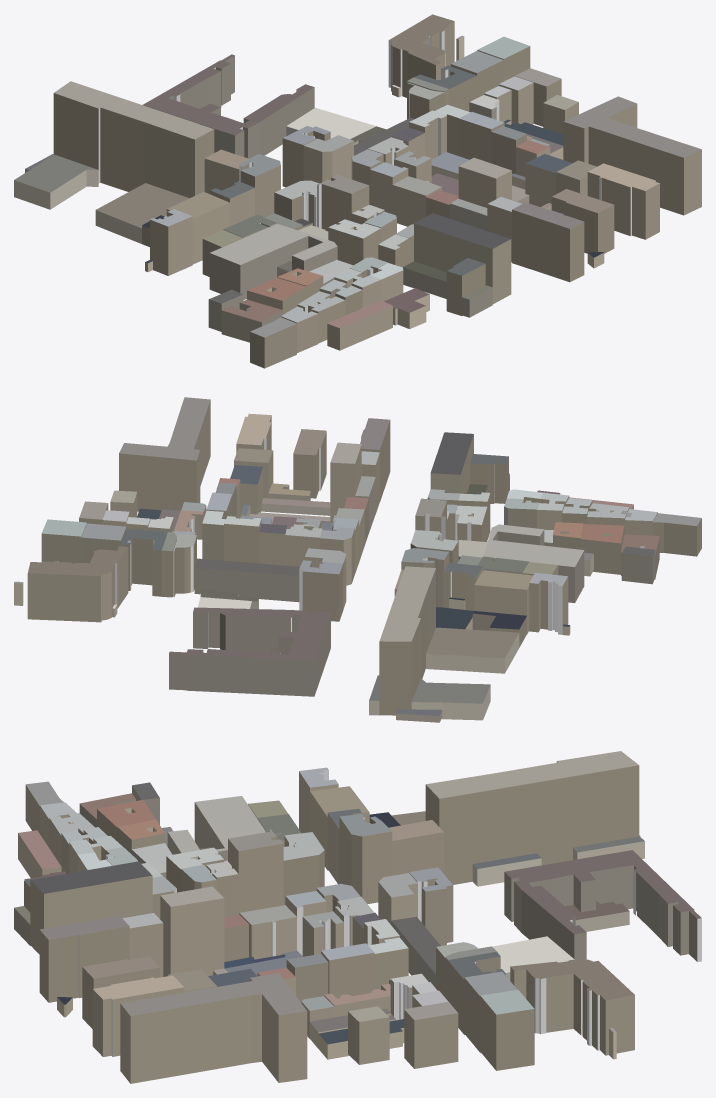
The picture shows the model from 3 angles, top to bottom: view 1: azimuth 30°, elevation 25°; view 2: azimuth 150°, elevation 25°; view 3: azimuth 270°, elevation 25°; orthographic projection. The views are drawn at different scales.
Visible parts, largest first — view 1: tuile; view 2: tuile; view 3: tuile.
Part boxes in pixels (left/top/right/bottom): tuile: left=14, top=14, right=701, bottom=368; tuile: left=14, top=397, right=701, bottom=722; tuile: left=14, top=751, right=701, bottom=1083.
Size of the model in its own units: 279 by 43.06 by 286.
